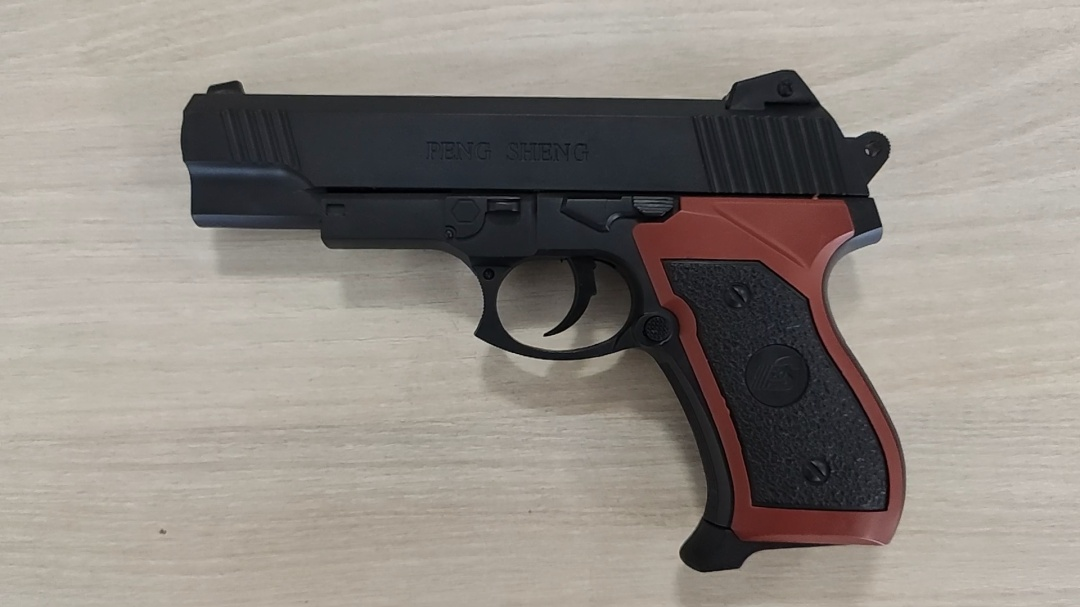gun: (181, 69, 904, 573)
